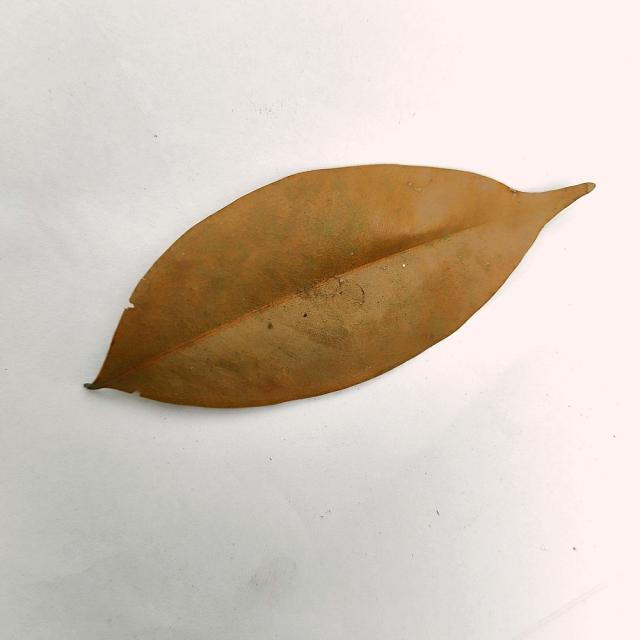Dry_Leaf-Lychee: (88, 164, 596, 411)
